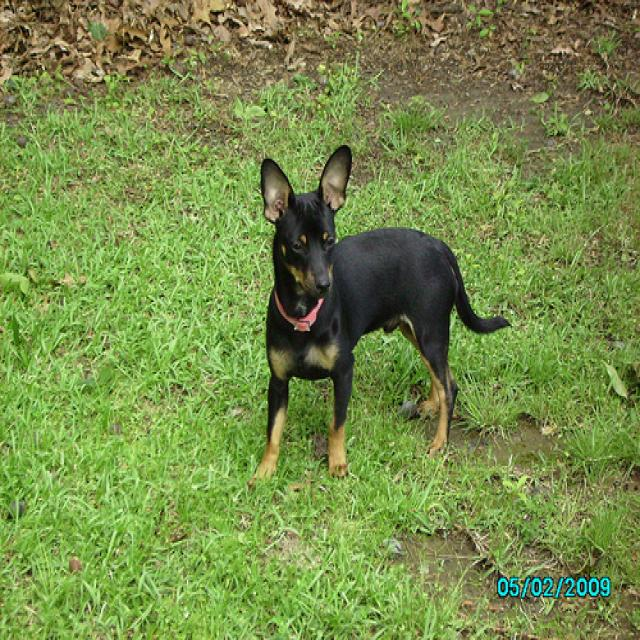dog-miniature_pinscher: (242, 142, 516, 498)
